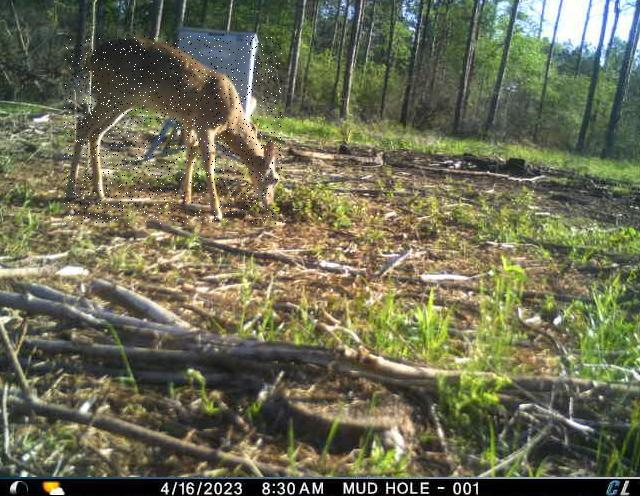Deer: (64, 37, 282, 225)
